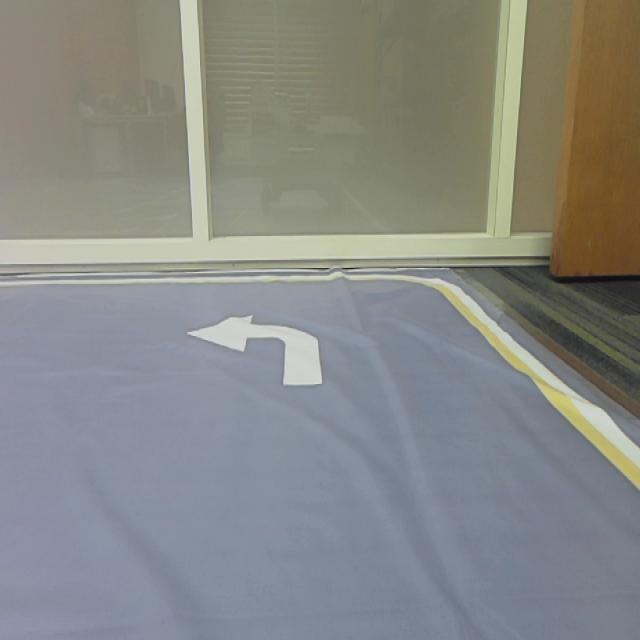right_lane: (442, 292, 640, 489)
